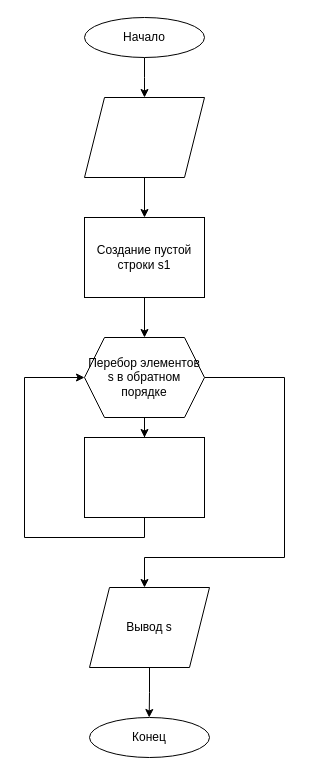
Image size: 310x775. Some labels were removed from this diagram. Here are the shapes that lost their labels. From the top down, the box of each, then its label:
(84, 96, 204, 178): Ввод строки s
(84, 436, 204, 518): Приписать к s1 развёрнутый элемент из s
